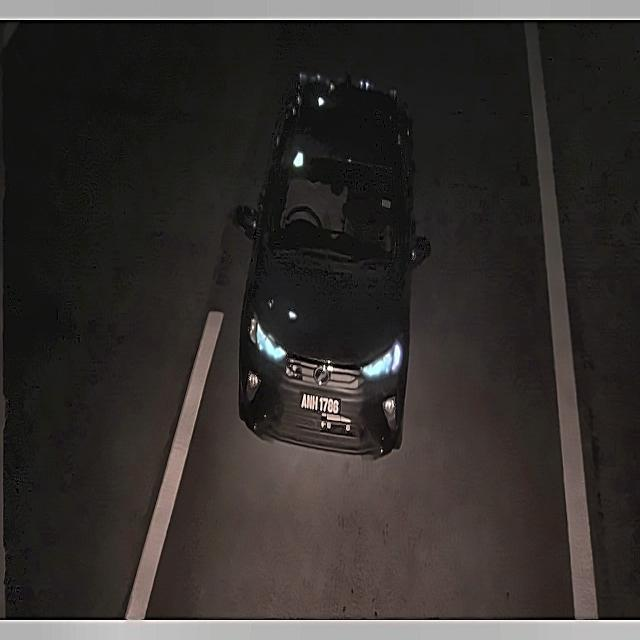car: (296, 382, 346, 423)
